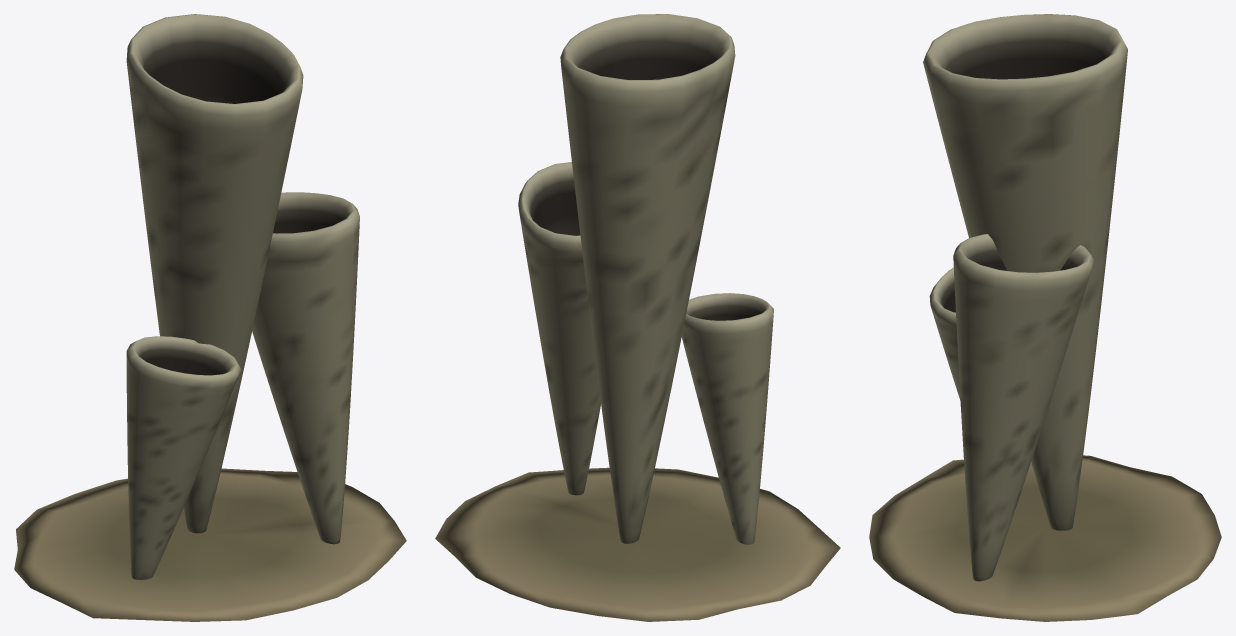
File: Thectardis.fbx
The picture shows the model from 3 angles, left to right: view 1: azimuth 30°, elevation 25°; view 2: azimuth 150°, elevation 25°; view 3: azimuth 270°, elevation 25°; orthographic projection.
Visible parts, largest first — view 1: Thectardis; view 2: Thectardis; view 3: Thectardis.
Boxes of the visible parts, left/top/right/bottom form: Thectardis: left=14, top=14, right=406, bottom=621; Thectardis: left=435, top=14, right=840, bottom=621; Thectardis: left=869, top=14, right=1221, bottom=621.
Bounding box in the file's own units: 1.1 × 1.5 × 0.968.
